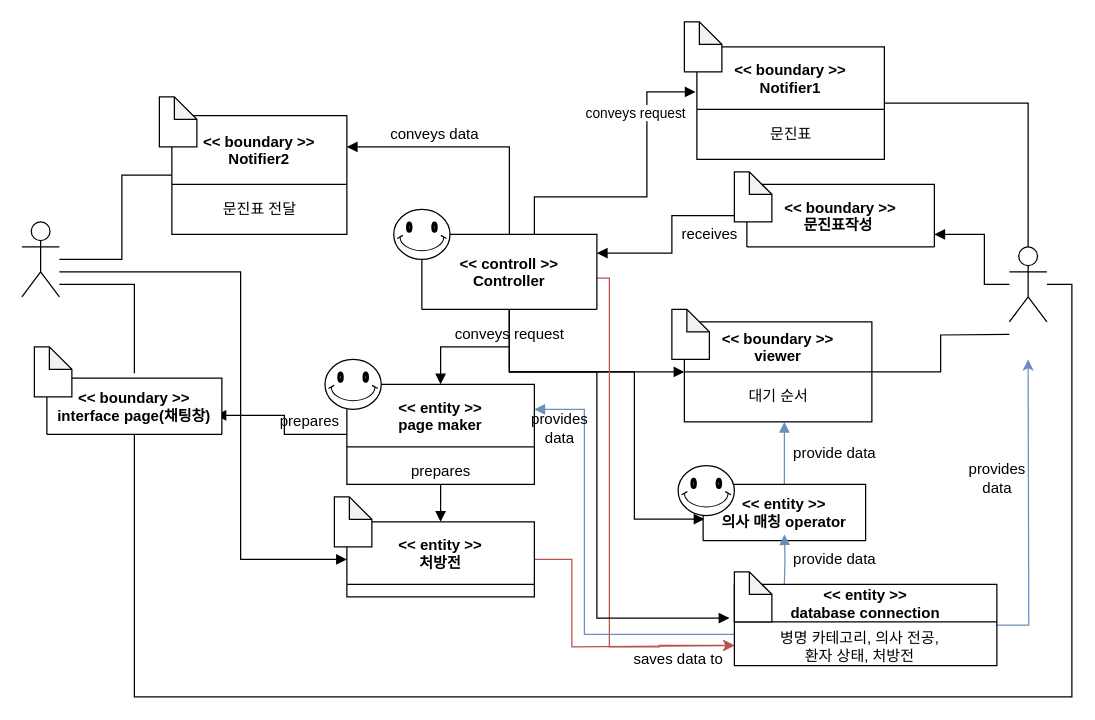
This 1095x720 diagram has some shape labels left out. Here are the shapes that lost their labels. From the top down, the centre of each, then its label:
(40,259): 의사
(1027,284): 환자
